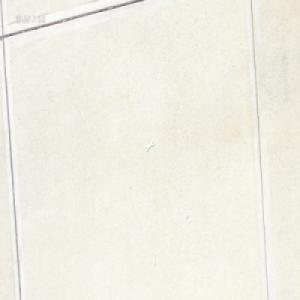Wrench: (145, 142, 153, 152)
